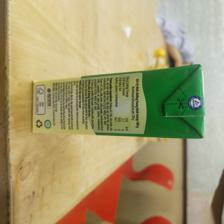NSPN_Hop: (29, 63, 206, 141)
